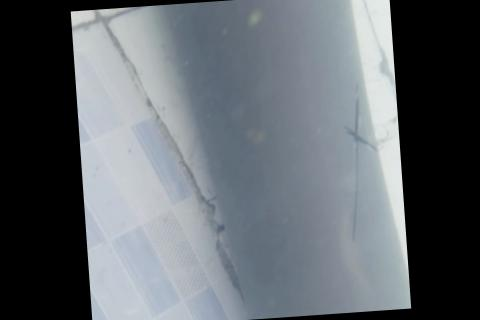keretakan: (336, 82, 381, 243)
